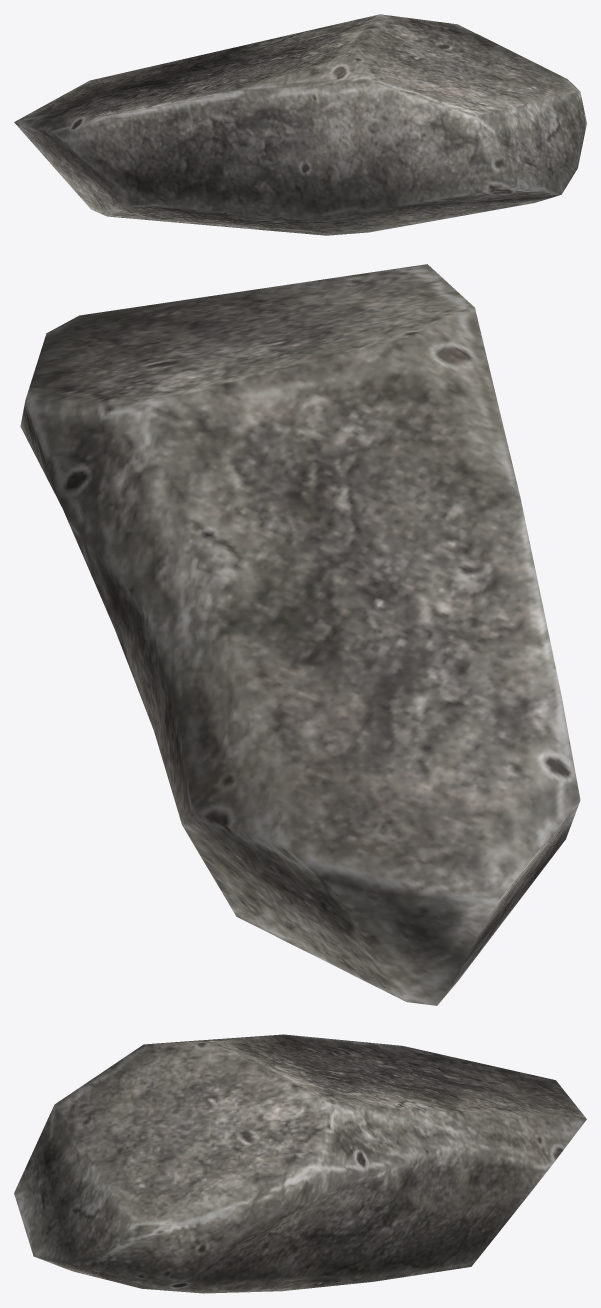
Rendered from piece.obj.
3 renders of one model, top to bottom at view 1: azimuth 30°, elevation 25°; view 2: azimuth 150°, elevation 25°; view 3: azimuth 270°, elevation 25°, orthographic. The views are drawn at different scales.
Visible parts, largest first — view 1: Rock3; view 2: Rock3; view 3: Rock3.
Part boxes in pixels (x1,y1,x2,y2): Rock3: (14, 14, 586, 235); Rock3: (20, 264, 580, 1005); Rock3: (14, 1034, 586, 1293).
Bounding box in the file's own units: 0.2709 × 0.1391 × 0.2919.
1 material, 1 textured.
